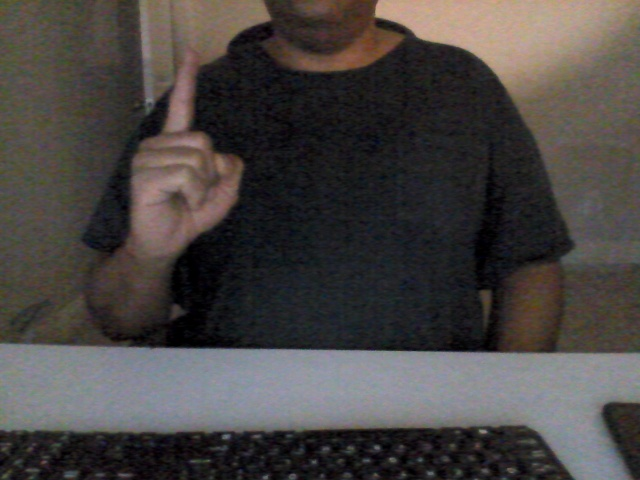up: (128, 40, 255, 259)
